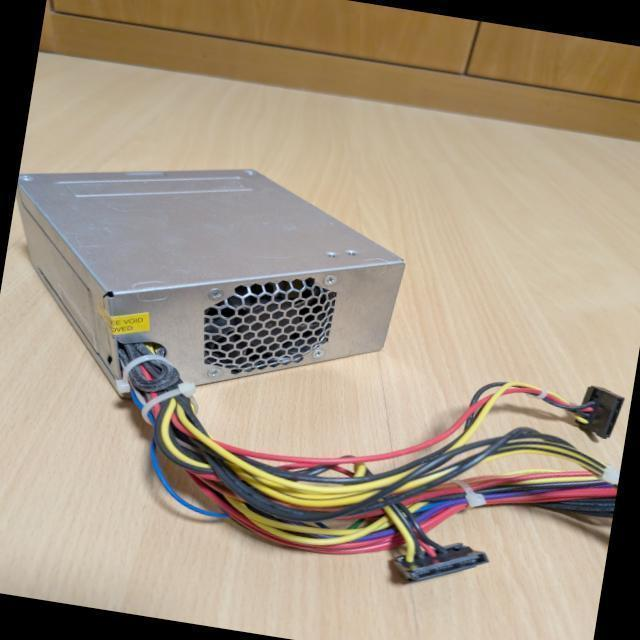PSU: (0, 131, 417, 439)
